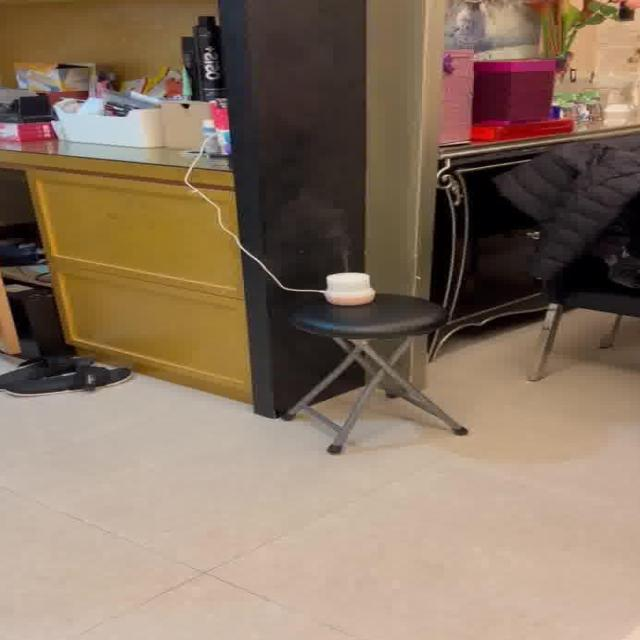fire: (286, 190, 354, 268)
